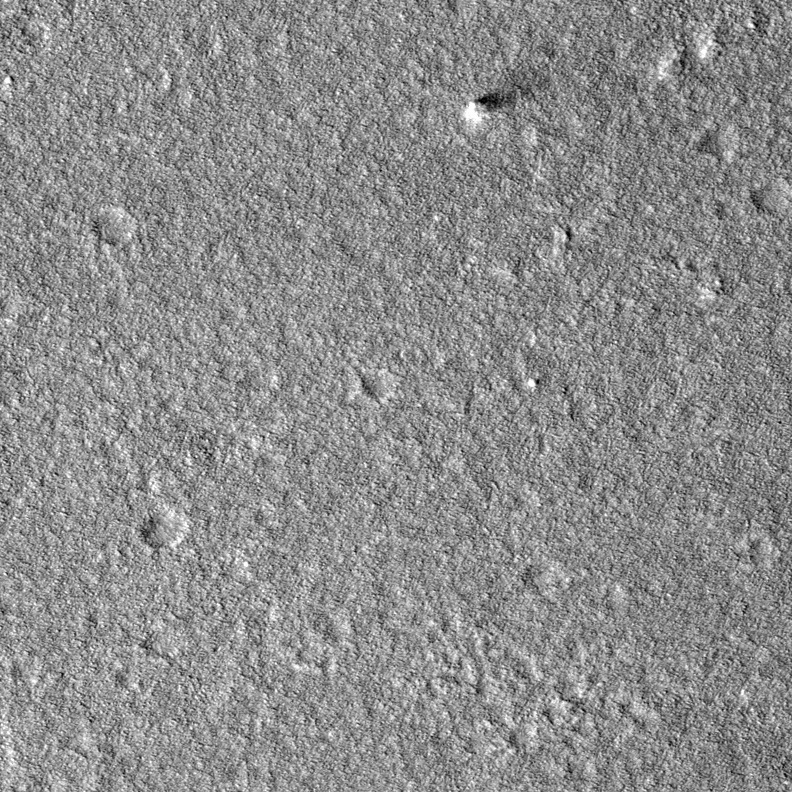dust_devil: (461, 86, 518, 125)
